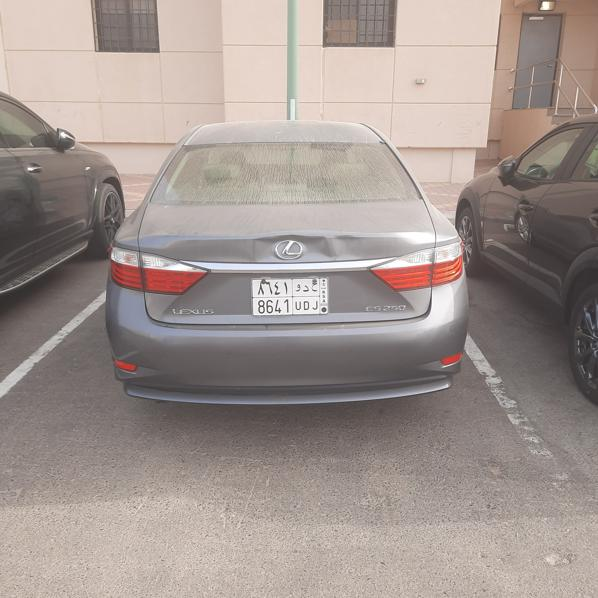numberplate: (251, 277, 328, 313)
